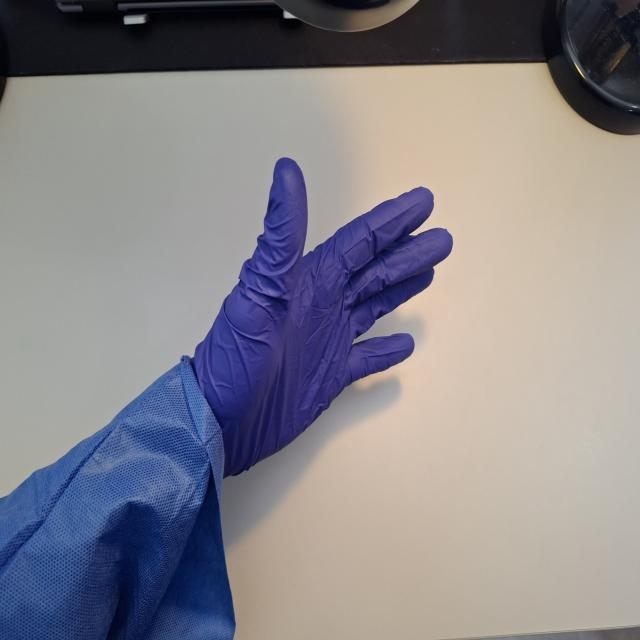glove_on: (190, 155, 456, 486)
